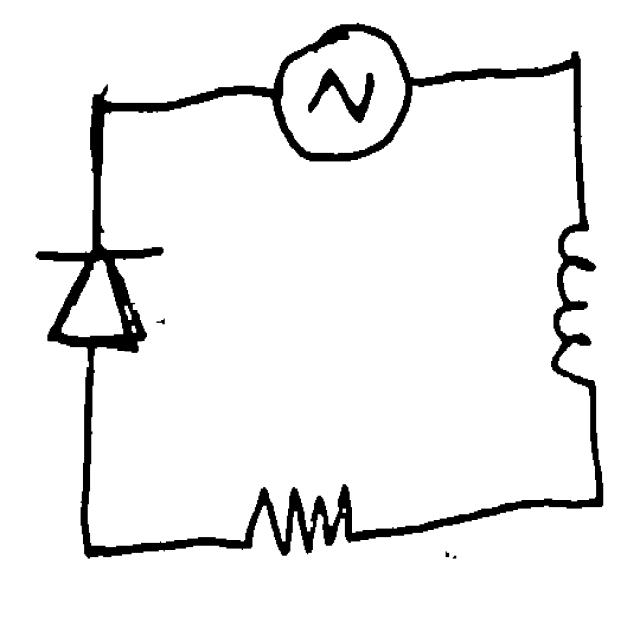ac: (258, 6, 423, 176)
diode: (20, 219, 176, 370)
inductor: (543, 190, 613, 412)
resistor: (229, 462, 378, 574)
